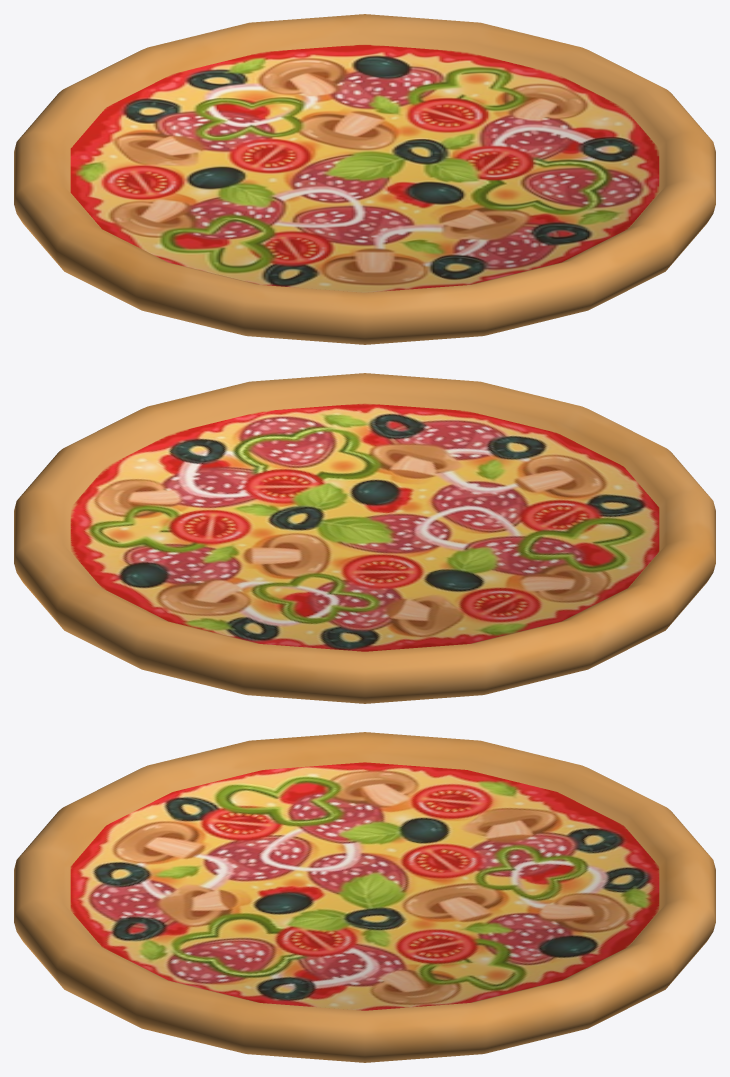
File: Pizza.fbx
3 views of the same model, one above another, from view 1: azimuth 30°, elevation 25°; view 2: azimuth 150°, elevation 25°; view 3: azimuth 270°, elevation 25° (orthographic).
Parts seen in each view (by area): view 1: Pizza; view 2: Pizza; view 3: Pizza.
Part boxes in pixels (x1=…): Pizza: x1=14, y1=14, x2=715, y2=344; Pizza: x1=14, y1=373, x2=715, y2=703; Pizza: x1=14, y1=732, x2=715, y2=1062.
Size of the model in its own units: 10.08 by 0.6445 by 9.92.
1 material, 1 textured.
